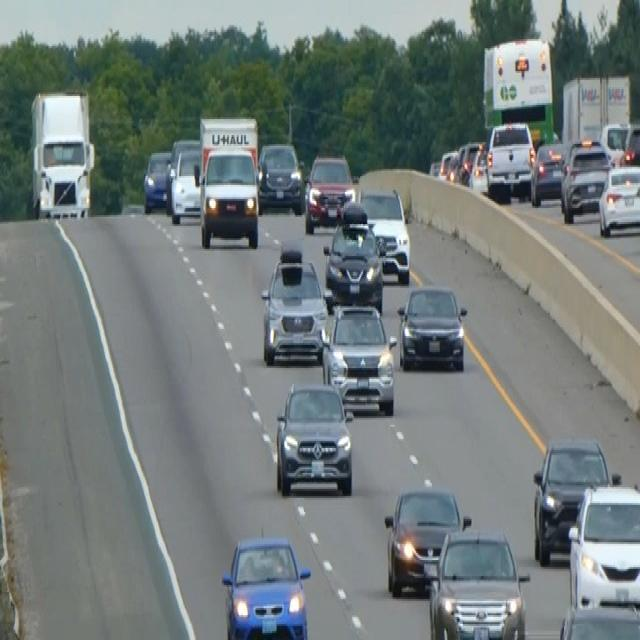bus: (481, 34, 556, 148)
car: (425, 524, 529, 638), (531, 434, 613, 565), (567, 478, 639, 612), (220, 532, 311, 638), (383, 484, 468, 596), (274, 379, 354, 496), (320, 300, 396, 414), (259, 247, 328, 365), (322, 201, 384, 309), (396, 283, 468, 372), (359, 185, 411, 283), (559, 135, 612, 222), (303, 151, 356, 233), (485, 119, 535, 199), (257, 140, 303, 213), (597, 162, 639, 236), (556, 601, 639, 638), (168, 146, 201, 222), (529, 139, 566, 206), (142, 148, 171, 214), (599, 119, 628, 164), (454, 139, 482, 185), (469, 144, 489, 194), (620, 119, 639, 167), (438, 148, 458, 180)
lorry: (29, 87, 95, 221)
minivan: (198, 146, 259, 249)
